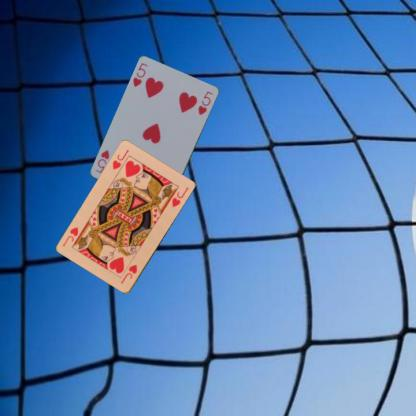5h: (130, 61, 148, 88)
Jh: (109, 147, 130, 171), (118, 262, 139, 285)
